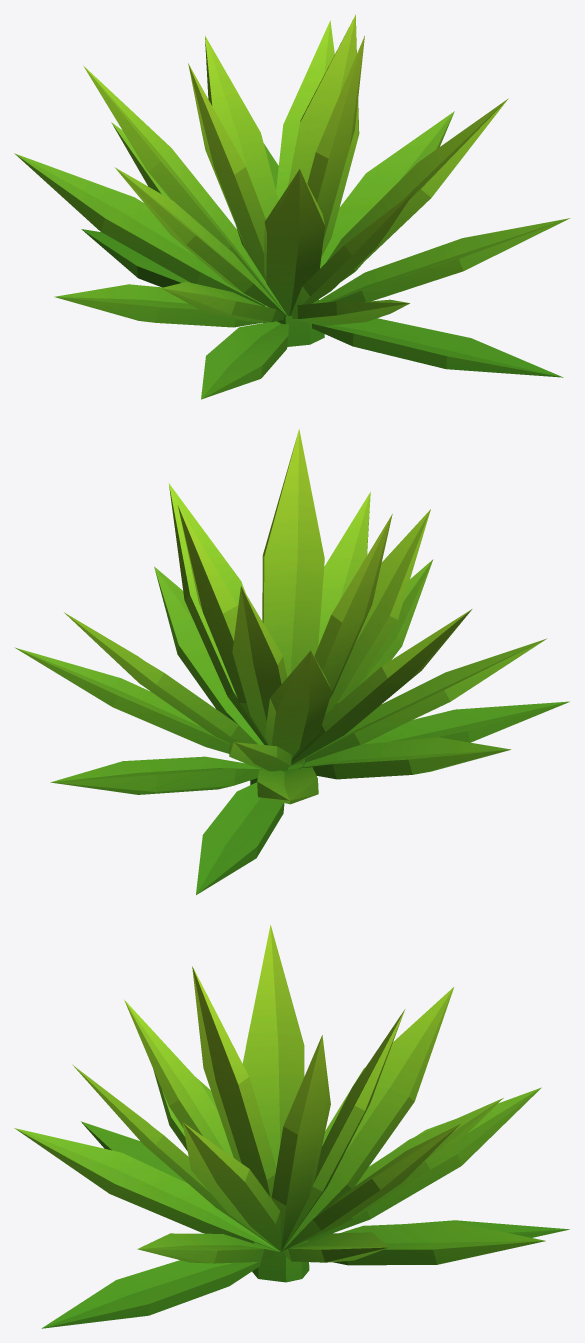
3 views of the same model, one above another, from view 1: azimuth 30°, elevation 25°; view 2: azimuth 150°, elevation 25°; view 3: azimuth 270°, elevation 25° (orthographic). The views are drawn at different scales.
Parts seen in each view (by area): view 1: AgaveHigh; view 2: AgaveHigh; view 3: AgaveHigh.
Boxes of the visible parts, <box> form: AgaveHigh: <box>14,14,570,399</box>; AgaveHigh: <box>14,429,569,894</box>; AgaveHigh: <box>14,925,569,1328</box>.
Size of the model in its own units: 2.27 by 1.55 by 2.48.
1 material, 1 textured.
